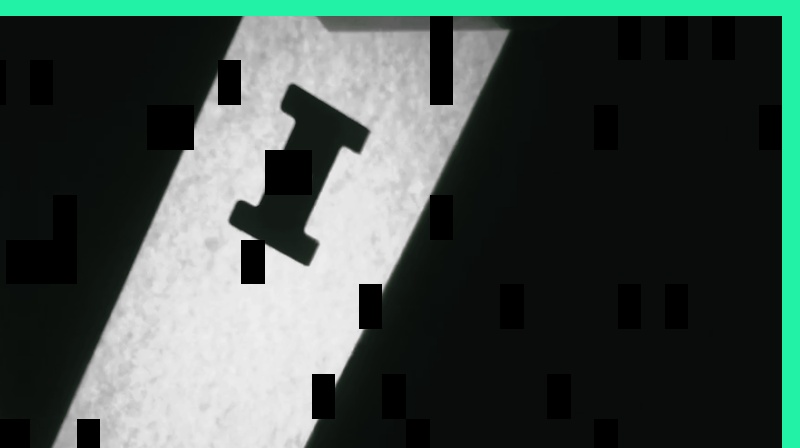O002: (224, 79, 372, 269)
